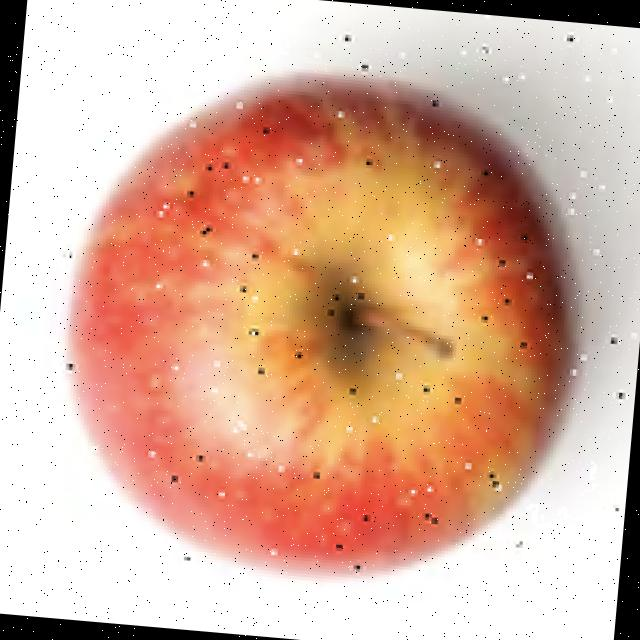apple: (54, 28, 637, 590)
